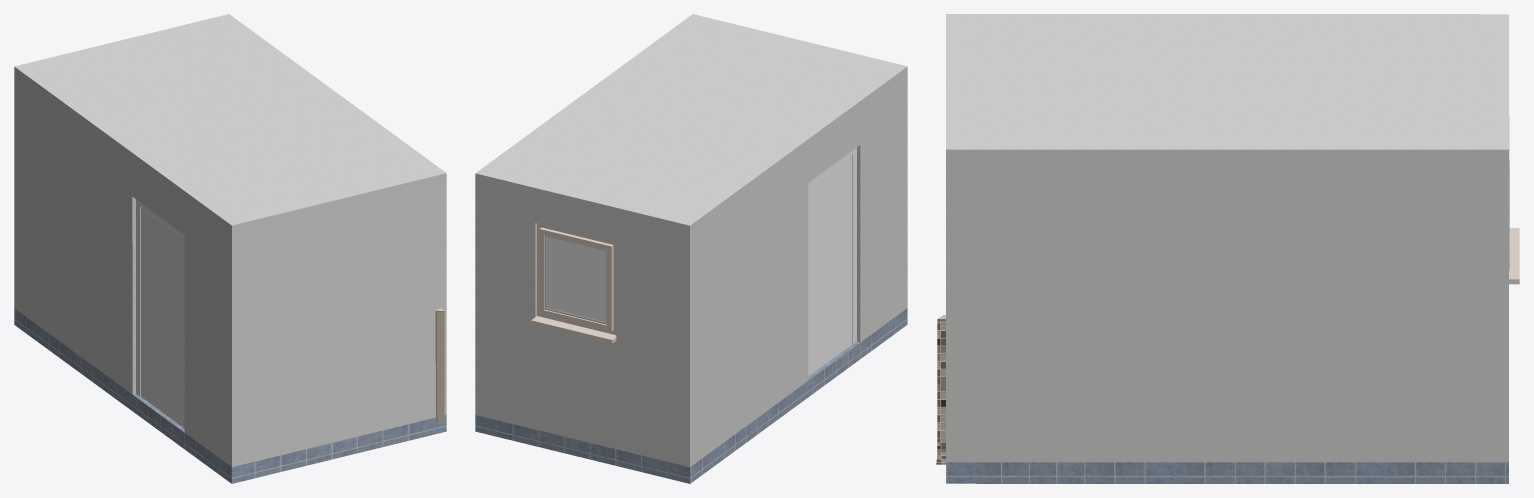
Rendered from FloorPlan425_physics.fbx.
3 renders of one model, left to right at view 1: azimuth 30°, elevation 25°; view 2: azimuth 150°, elevation 25°; view 3: azimuth 270°, elevation 25°, orthographic. The views are drawn at different scales.
Parts seen in each view (by area): view 1: FP425:Walls, FP425:Ceiling, FP425:Door.020, FP425:Floor, FP425:polySurface377, FP425:polySurface110; view 2: FP425:Walls, FP425:Ceiling, FP425:Door.020, FP425:Floor, FP425:polySurface110, FP425:polySurface112, FP425:polySurface377; view 3: FP425:Walls, FP425:Ceiling, FP425:Floor, FP425:polySurface110, FP425:polySurface112.
Part boxes in pixels (<box>): FP425:Walls: <box>14,82,446,467</box>; FP425:Ceiling: <box>14,14,446,241</box>; FP425:Door.020: <box>140,207,183,427</box>; FP425:Floor: <box>14,308,446,483</box>; FP425:polySurface377: <box>136,199,184,428</box>; FP425:polySurface110: <box>434,308,445,422</box>; FP425:Walls: <box>475,82,907,467</box>; FP425:Ceiling: <box>475,14,907,241</box>; FP425:Door.020: <box>809,155,851,375</box>; FP425:Floor: <box>475,308,907,483</box>; FP425:polySurface110: <box>547,236,605,322</box>; FP425:polySurface112: <box>531,223,616,343</box>; FP425:polySurface377: <box>808,147,856,376</box>; FP425:Walls: <box>946,169,1508,462</box>; FP425:Ceiling: <box>946,14,1508,171</box>; FP425:Floor: <box>946,462,1508,483</box>; FP425:polySurface110: <box>936,315,945,464</box>; FP425:polySurface112: <box>1509,115,1519,284</box>.
Size of the model in its own units: 238 by 274 by 433.
